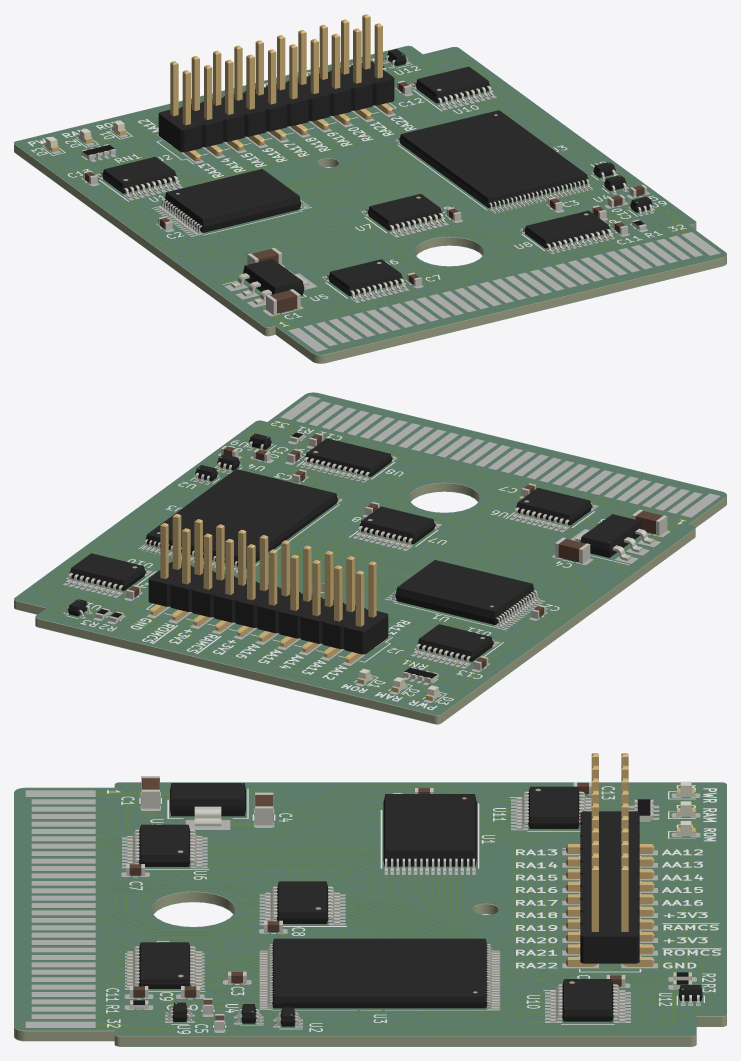
The model's file is board.glb.
3 renders of one model, top to bottom at view 1: azimuth 30°, elevation 25°; view 2: azimuth 150°, elevation 25°; view 3: azimuth 270°, elevation 25°, orthographic. The views are drawn at different scales.
Parts seen in each view (by area): view 1: board_soldermask (×2), board_PCB, PinHeader_2x10_P254mm_Vertical_SMD, board_pad, TSOP-I-48_18.4x12mm_P0.5mm, TSSOP-20_4.4x6.5mm_P0.65mm (×4), TSOP-I-32_11.8x8mm_P0.5mm, board_copper, board_silkscreen, TSSOP-24_4.4x7.8mm_P0.65mm, SOT-223, C_1206_3216Metric; view 2: board_soldermask (×2), board_PCB, PinHeader_2x10_P254mm_Vertical_SMD, board_pad, TSOP-I-48_18.4x12mm_P0.5mm, TSSOP-20_4.4x6.5mm_P0.65mm (×4), TSOP-I-32_11.8x8mm_P0.5mm, board_copper, board_silkscreen, TSSOP-24_4.4x7.8mm_P0.65mm, SOT-223, C_1206_3216Metric (×2); view 3: board_soldermask (×2), board_PCB, board_pad, TSOP-I-48_18.4x12mm_P0.5mm, PinHeader_2x10_P254mm_Vertical_SMD, TSSOP-20_4.4x6.5mm_P0.65mm (×4), board_copper, board_silkscreen, TSOP-I-32_11.8x8mm_P0.5mm, TSSOP-24_4.4x7.8mm_P0.65mm, SOT-223, C_1206_3216Metric (×2).
Part boxes in pixels (x1,y1,x2,y2): board_soldermask (×2): [14, 45, 726, 363]; board_PCB: [14, 47, 726, 363]; PinHeader_2x10_P254mm_Vertical_SMD: [158, 14, 394, 161]; board_pad: [43, 61, 720, 351]; TSOP-I-48_18.4x12mm_P0.5mm: [395, 110, 592, 213]; TSSOP-20_4.4x6.5mm_P0.65mm (×4): [98, 66, 493, 300]; TSOP-I-32_11.8x8mm_P0.5mm: [158, 169, 306, 235]; board_copper: [40, 53, 688, 329]; board_silkscreen: [27, 58, 686, 326]; TSSOP-24_4.4x7.8mm_P0.65mm: [520, 210, 613, 252]; SOT-223: [231, 259, 308, 304]; C_1206_3216Metric: [266, 289, 300, 314]; board_soldermask (×2): [14, 392, 726, 724]; board_PCB: [14, 393, 726, 723]; PinHeader_2x10_P254mm_Vertical_SMD: [148, 513, 388, 663]; board_pad: [63, 396, 720, 702]; TSOP-I-48_18.4x12mm_P0.5mm: [141, 469, 342, 572]; TSSOP-20_4.4x6.5mm_P0.65mm (×4): [65, 488, 595, 666]; TSOP-I-32_11.8x8mm_P0.5mm: [389, 560, 540, 627]; board_copper: [38, 418, 688, 702]; board_silkscreen: [66, 420, 685, 709]; TSSOP-24_4.4x7.8mm_P0.65mm: [301, 438, 396, 481]; SOT-223: [575, 514, 654, 560]; C_1206_3216Metric (×2): [555, 509, 667, 563]; board_soldermask (×2): [14, 782, 726, 1046]; board_PCB: [14, 783, 726, 1046]; board_pad: [25, 790, 700, 1032]; TSOP-I-48_18.4x12mm_P0.5mm: [260, 938, 499, 1009]; PinHeader_2x10_P254mm_Vertical_SMD: [566, 753, 654, 966]; TSSOP-20_4.4x6.5mm_P0.65mm (×4): [127, 786, 625, 1022]; board_copper: [96, 786, 714, 1031]; board_silkscreen: [106, 785, 721, 1033]; TSOP-I-32_11.8x8mm_P0.5mm: [383, 794, 476, 871]; TSSOP-24_4.4x7.8mm_P0.65mm: [127, 942, 202, 989]; SOT-223: [170, 783, 245, 826]; C_1206_3216Metric (×2): [141, 776, 273, 825].
Size of the model in its own units: 0.0514 by 0.0104 by 0.061.
